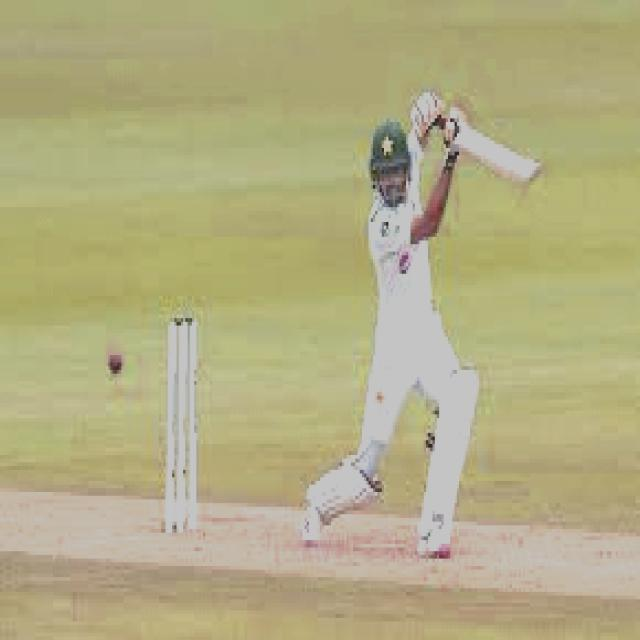toe: (512, 150, 544, 198)
